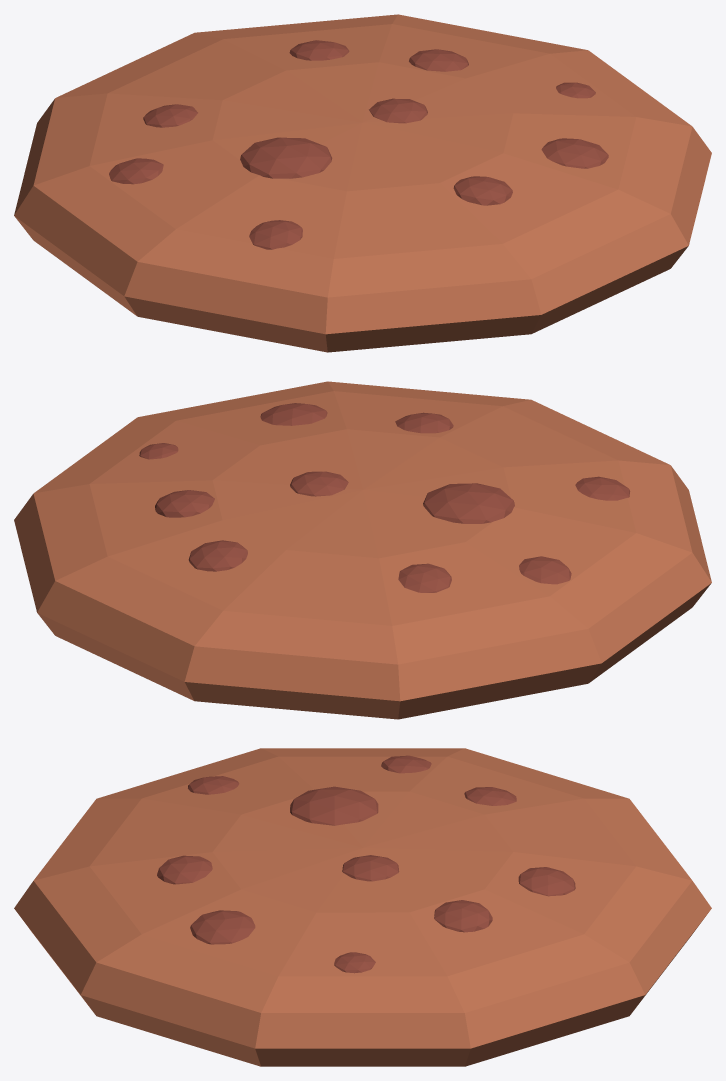
Rendered from Cookie_01.fbx.
3 views of the same model, one above another, from view 1: azimuth 30°, elevation 25°; view 2: azimuth 150°, elevation 25°; view 3: azimuth 270°, elevation 25° (orthographic). The views are drawn at different scales.
Parts seen in each view (by area): view 1: Cookie_01; view 2: Cookie_01; view 3: Cookie_01.
Boxes of the visible parts, <box> form: Cookie_01: <box>14,14,711,352</box>; Cookie_01: <box>14,381,711,719</box>; Cookie_01: <box>14,748,711,1066</box>.
Bounding box in the file's own units: 11.03 × 1.91 × 11.6.
